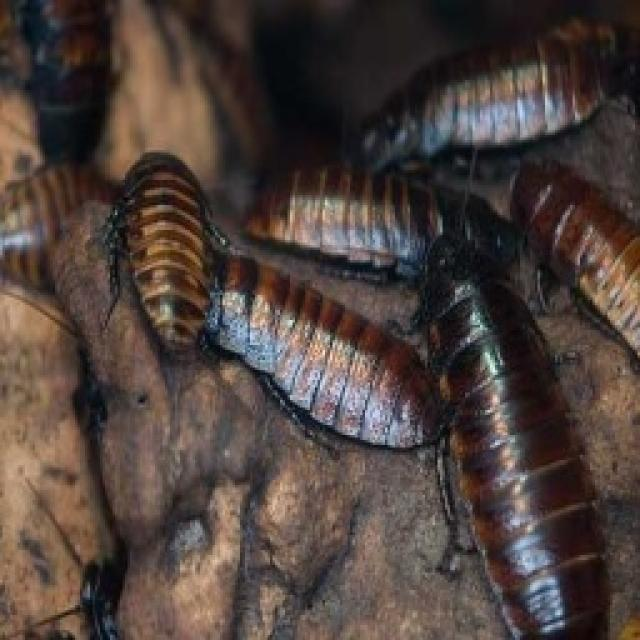cockroach: (400, 230, 640, 640), (193, 254, 467, 495), (331, 30, 629, 182), (486, 138, 640, 366), (233, 160, 510, 276), (116, 130, 216, 382)
